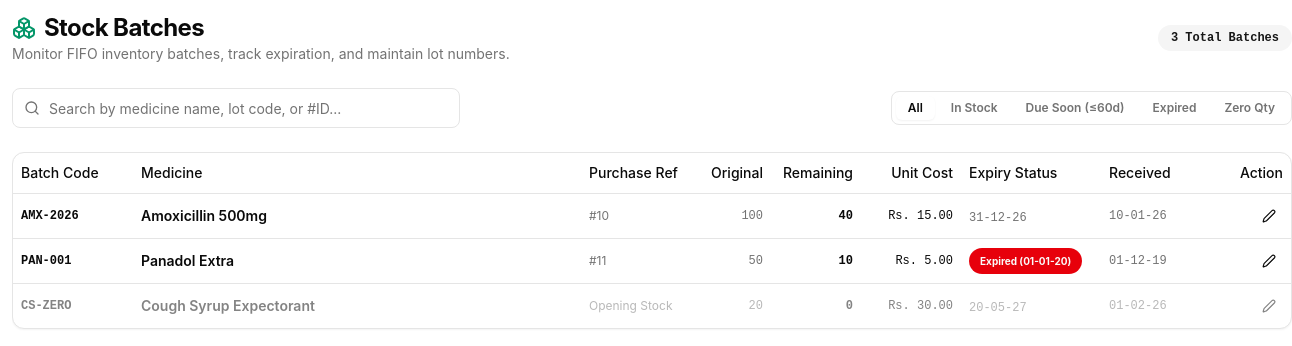
Test case: BatchesPage Component › filters batches by expired and zero stock status tabs
expect the text "Amoxicillin 500mg" is shown: met, box [141,206,267,224]
# Click Expired tab
Step 1. Click the button "Expired" → (1174, 108), box [1141,96,1208,120]
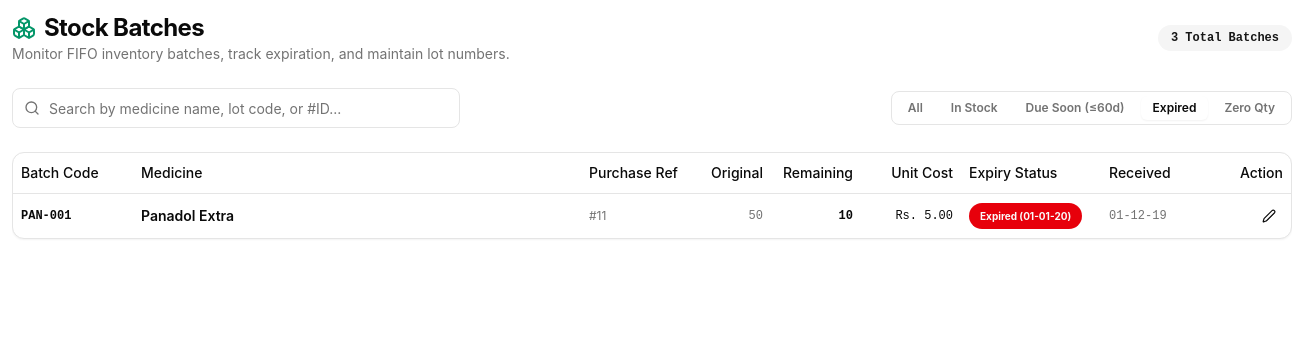
expect the text "Panadol Extra" is shown: met, box [141,206,234,224]
expect the text "Amoxicillin 500mg" is gone: met
expect the text "Cough Syrup Expectorant" is gone: met
# Click Zero Qty tab
Step 2. Click the button "Zero Qty" → (1250, 108), box [1212,96,1287,120]
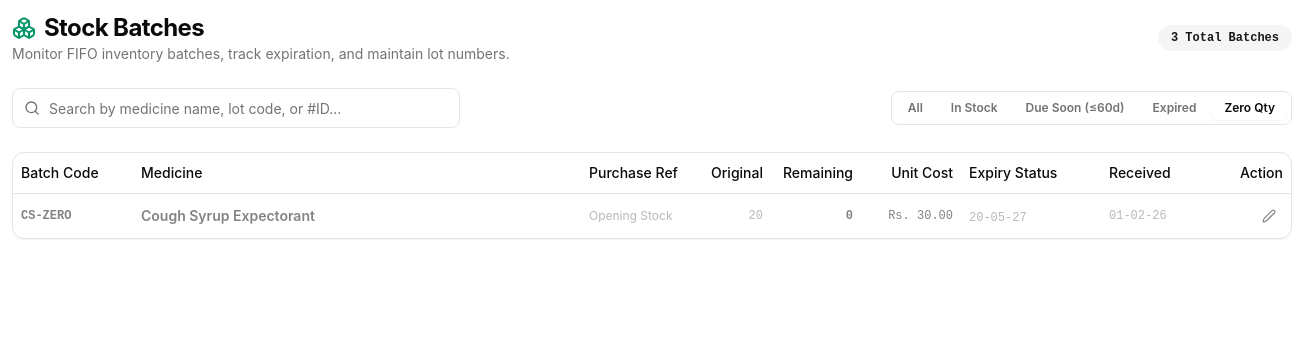
expect the text "Amoxicillin 500mg" is not shown: met
expect the text "Cough Syrup Expectorant" is shown: met, box [141,206,315,224]
expect the text "Panadol Extra" is gone: met
